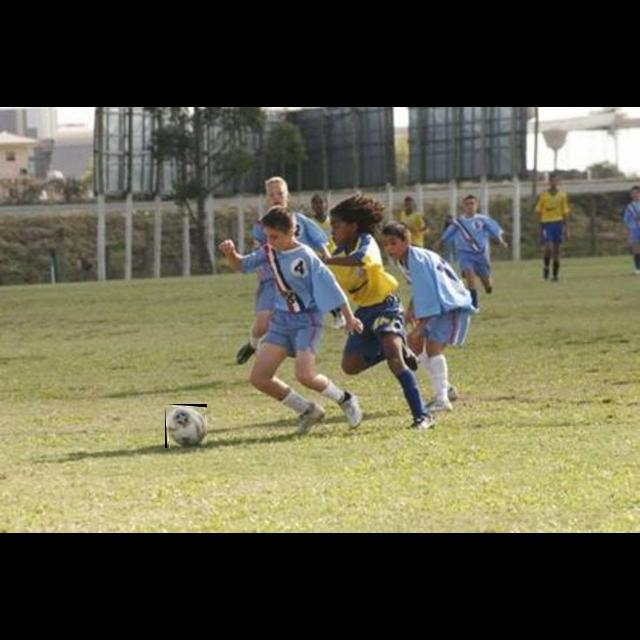Football: (165, 404, 207, 448)
